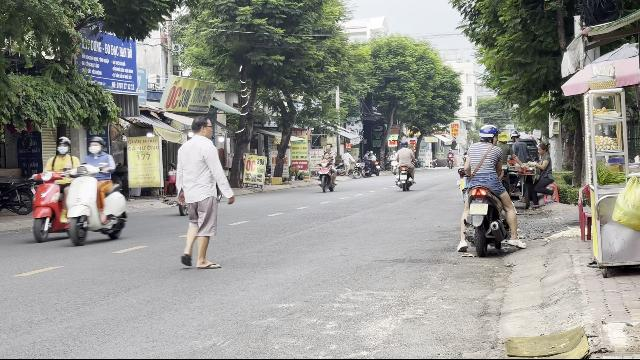helmet: (478, 124, 498, 142), (55, 136, 71, 156), (87, 136, 103, 154)
licenseplate: (469, 204, 487, 214)
motorcyclist: (454, 122, 520, 256), (64, 134, 128, 246), (28, 134, 84, 244)
